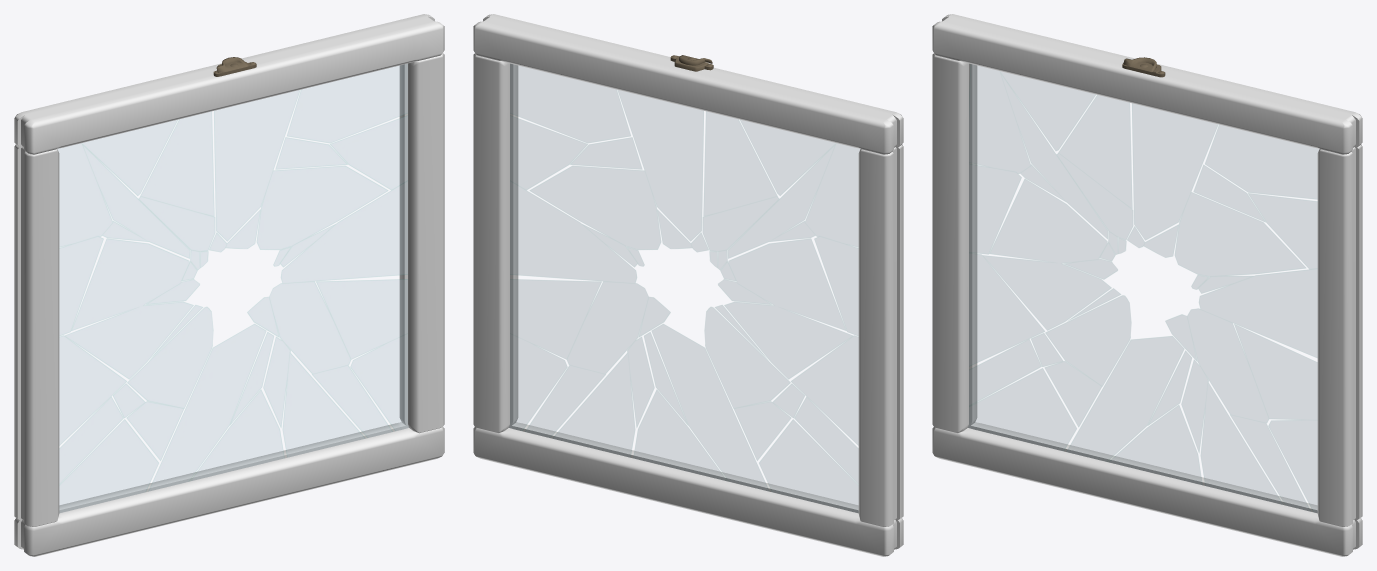
Rendered from GlassBrokenWindow-transformed.glb.
The picture shows the model from 3 angles, left to right: view 1: azimuth 30°, elevation 25°; view 2: azimuth 150°, elevation 25°; view 3: azimuth 330°, elevation 25°; orthographic projection.
Visible parts, largest first — view 1: WindowsGlass, WindowFrame, WindowClasp; view 2: WindowsGlass, WindowFrame, WindowClasp; view 3: WindowsGlass, WindowFrame, WindowClasp.
Part boxes in pixels (<box>): WindowsGlass: <box>58,64,408,512</box>; WindowFrame: <box>14,14,444,556</box>; WindowClasp: <box>213,57,256,76</box>; WindowsGlass: <box>509,64,859,512</box>; WindowFrame: <box>473,14,903,556</box>; WindowClasp: <box>670,55,713,71</box>; WindowsGlass: <box>968,64,1318,512</box>; WindowFrame: <box>932,14,1362,556</box>; WindowClasp: <box>1122,57,1165,77</box>.
Bounding box in the file's own units: 0.508 × 0.5165 × 0.0381.
3 materials, 1 textured.
